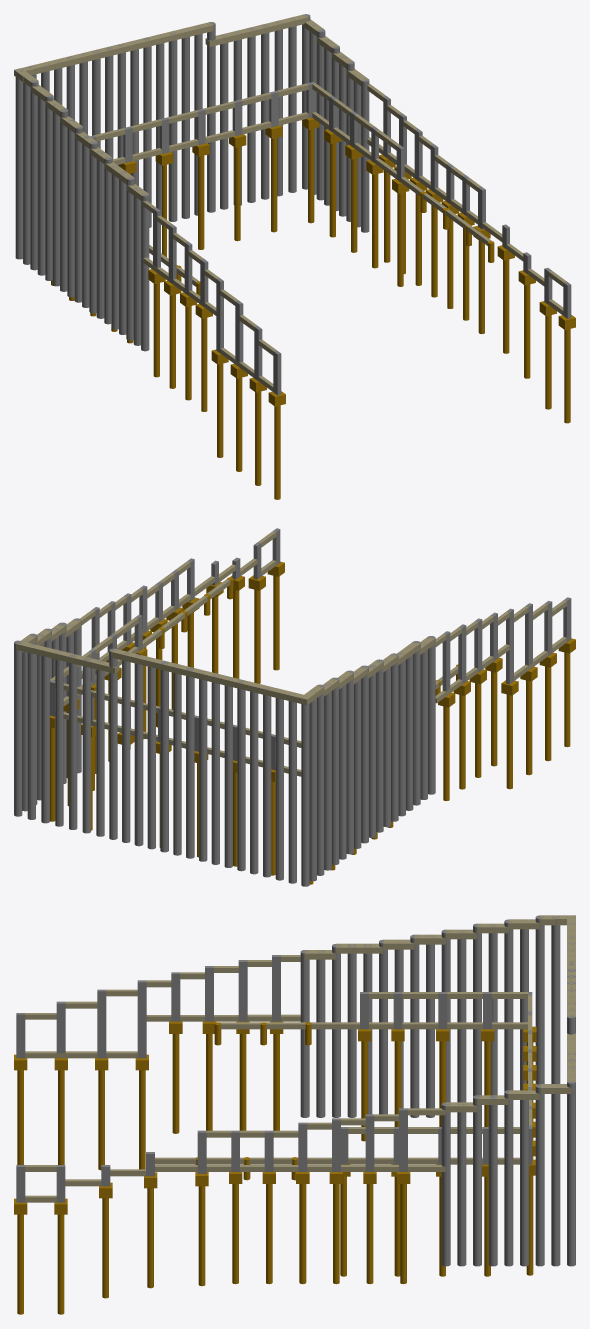
3 renders of one model, top to bottom at view 1: azimuth 30°, elevation 25°; view 2: azimuth 150°, elevation 25°; view 3: azimuth 270°, elevation 25°, orthographic. The views are drawn at different scales.
Visible parts, largest first — view 1: Nivel_730-Concrado_ares, Nivel_600-Concrado_ares, Nivel_240-Concrdo_i__es, Nivel_550-Concrado_ares, Garagem-Concrdo_i__es, Nivel_240-Concrdadoigas, Nivel_390-Concrado_ares, Nivel_730-Concrdadoigas, Nivel_390-Concrdadoigas, Nivel_600-Concrdadoigas, Nivel_190-Concrdo_i__es, Nivel_240-Concrado_ares (+2 smaller); view 2: Nivel_730-Concrado_ares, Nivel_600-Concrado_ares, Nivel_240-Concrdo_i__es, Garagem-Concrdo_i__es, Nivel_550-Concrado_ares, Nivel_240-Concrdadoigas, Nivel_390-Concrado_ares, Nivel_730-Concrdadoigas, Nivel_600-Concrdadoigas, Nevel_500-Concrado_ares, Nivel_390-Concrdadoigas, Nivel_190-Concrdo_i__es (+6 smaller); view 3: Nivel_600-Concrado_ares, Nivel_240-Concrdo_i__es, Nivel_550-Concrado_ares, Nivel_730-Concrado_ares, Nivel_240-Concrdadoigas, Garagem-Concrdo_i__es, Nivel_390-Concrado_ares, Nivel_390-Concrdadoigas, Nivel_600-Concrdadoigas, Nivel_240-Concrado_ares, Nevel_500-Concrado_ares, Nivel_730-Concrdadoigas (+9 smaller).
Boxes of the visible parts, x1,y1,x2,y2 form: Nivel_730-Concrado_ares: [15, 22, 215, 291]; Nivel_600-Concrado_ares: [67, 14, 339, 340]; Nivel_240-Concrdo_i__es: [51, 117, 494, 411]; Nivel_550-Concrado_ares: [133, 55, 369, 351]; Garagem-Concrdo_i__es: [211, 301, 575, 499]; Nivel_240-Concrdadoigas: [112, 112, 566, 355]; Nivel_390-Concrado_ares: [90, 81, 485, 348]; Nivel_730-Concrdadoigas: [14, 22, 213, 116]; Nivel_390-Concrdadoigas: [94, 83, 481, 283]; Nivel_600-Concrdadoigas: [60, 14, 338, 184]; Nivel_190-Concrdo_i__es: [497, 245, 535, 378]; Nivel_240-Concrado_ares: [125, 113, 571, 390]; Nivel_730-Concrado_ares: [109, 648, 353, 886]; Nivel_600-Concrado_ares: [14, 628, 420, 848]; Nivel_240-Concrdo_i__es: [50, 577, 502, 884]; Garagem-Concrdo_i__es: [248, 561, 575, 789]; Nivel_550-Concrado_ares: [51, 618, 435, 799]; Nivel_240-Concrdadoigas: [55, 531, 566, 776]; Nivel_390-Concrado_ares: [50, 558, 513, 765]; Nivel_730-Concrdadoigas: [111, 649, 353, 705]; Nivel_600-Concrdadoigas: [16, 629, 419, 684]; Nevel_500-Concrado_ares: [91, 601, 466, 691]; Nivel_390-Concrdadoigas: [50, 561, 509, 747]; Nivel_190-Concrdo_i__es: [206, 575, 244, 678]; Nivel_600-Concrado_ares: [332, 929, 575, 1266]; Nivel_240-Concrdo_i__es: [169, 1021, 536, 1286]; Nivel_550-Concrado_ares: [300, 950, 497, 1266]; Nivel_730-Concrado_ares: [473, 915, 575, 1096]; Nivel_240-Concrdadoigas: [25, 1013, 527, 1171]; Garagem-Concrdo_i__es: [14, 1054, 148, 1314]; Nivel_390-Concrado_ares: [137, 980, 532, 1168]; Nivel_390-Concrdadoigas: [146, 980, 532, 1137]; Nivel_600-Concrdadoigas: [336, 929, 575, 1099]; Nivel_240-Concrado_ares: [16, 1013, 532, 1197]; Nevel_500-Concrado_ares: [238, 955, 407, 1166]; Nivel_730-Concrdadoigas: [477, 915, 575, 1016].
Size of the model in its own units: 1648 by 1245 by 2510.
